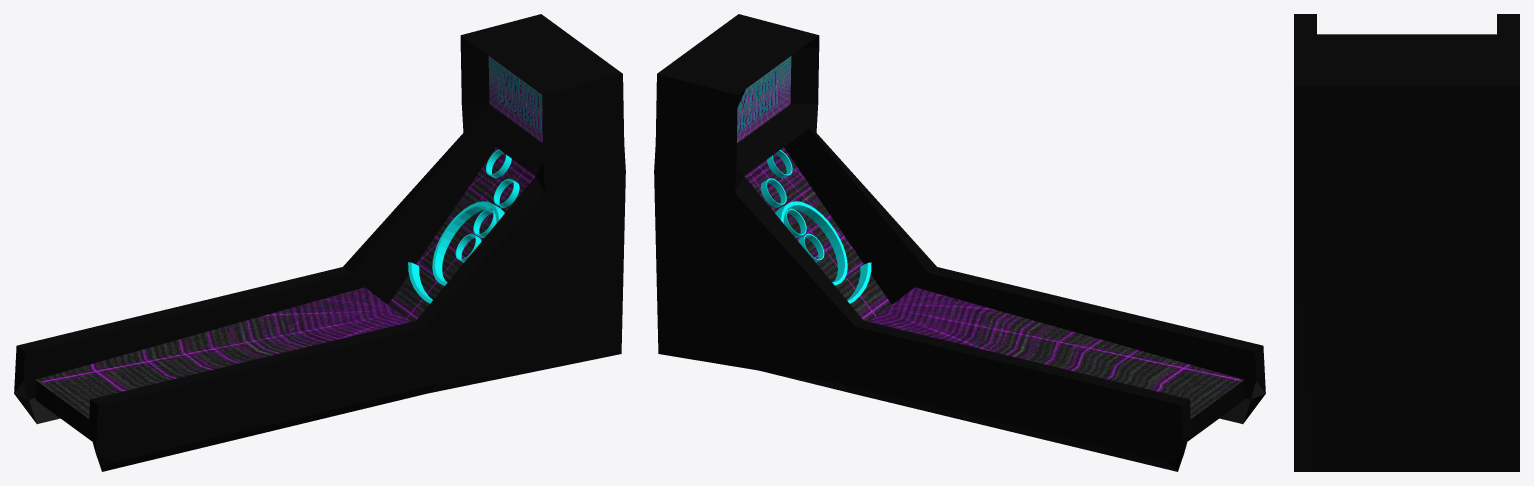
Rendered from skeeball.fbx.
3 views of the same model, side by side, from view 1: azimuth 30°, elevation 25°; view 2: azimuth 150°, elevation 25°; view 3: azimuth 270°, elevation 25° (orthographic). The views are drawn at different scales.
Visible parts, largest first — view 1: Circle, Circle.001; view 2: Circle, Circle.001; view 3: Circle.
Boxes of the visible parts, <box> form: Circle: <box>14,14,625,471</box>; Circle.001: <box>432,201,504,285</box>; Circle: <box>654,14,1265,471</box>; Circle.001: <box>775,201,847,285</box>; Circle: <box>1294,14,1519,471</box>.
Bounding box in the file's own units: 1035 × 523 × 276.
4 materials, 4 textured.
